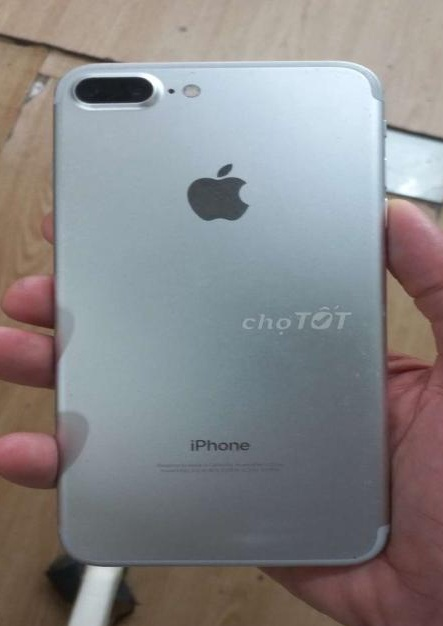scratch: (349, 439, 399, 531), (341, 340, 387, 402), (214, 533, 318, 560), (290, 61, 362, 86), (362, 114, 399, 135), (289, 399, 318, 421), (167, 65, 209, 80), (349, 550, 371, 569)
